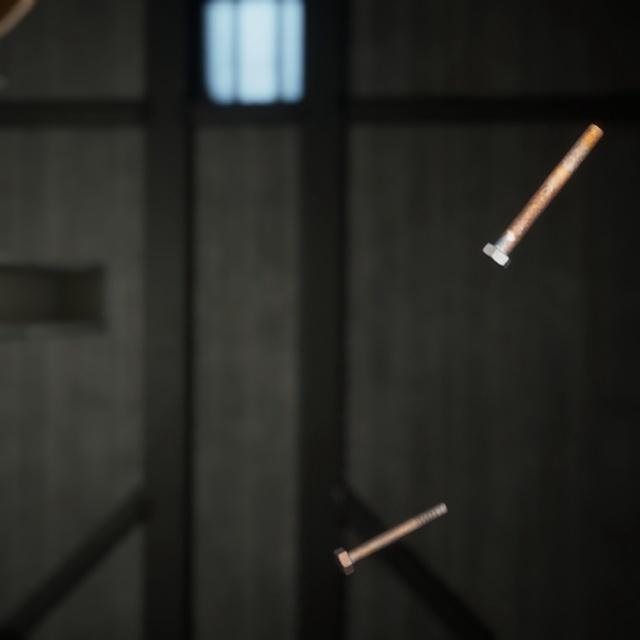bolt: (477, 104, 608, 258), (329, 476, 452, 558)
